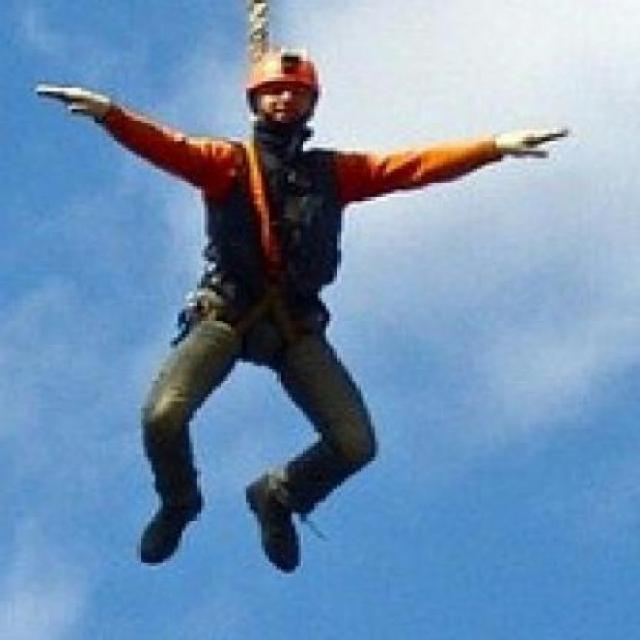fall: (29, 49, 576, 577)
